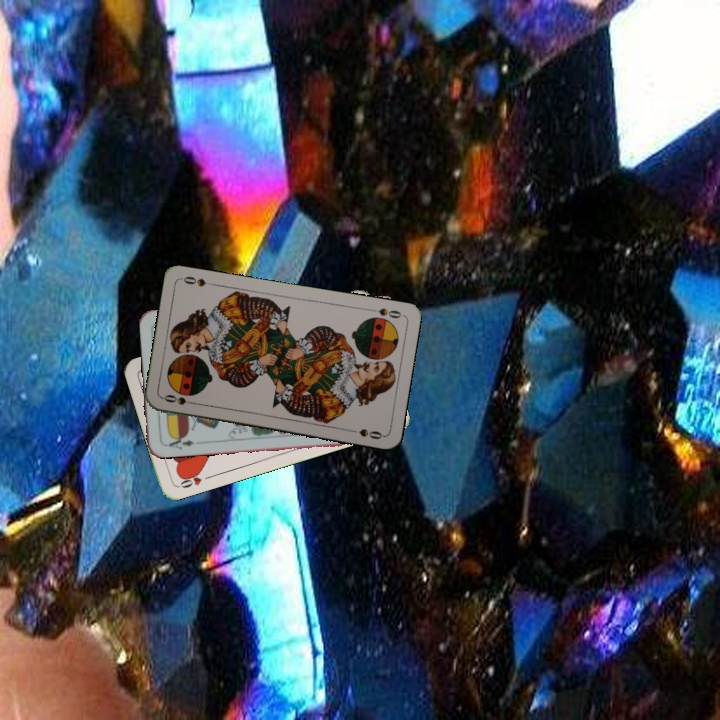EA: (161, 432, 197, 452)
HO: (174, 468, 214, 491)
SO: (159, 391, 200, 408), (365, 304, 404, 321)
